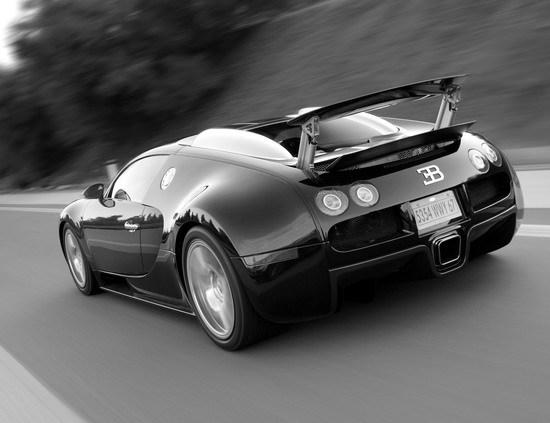car: (58, 72, 527, 350)
